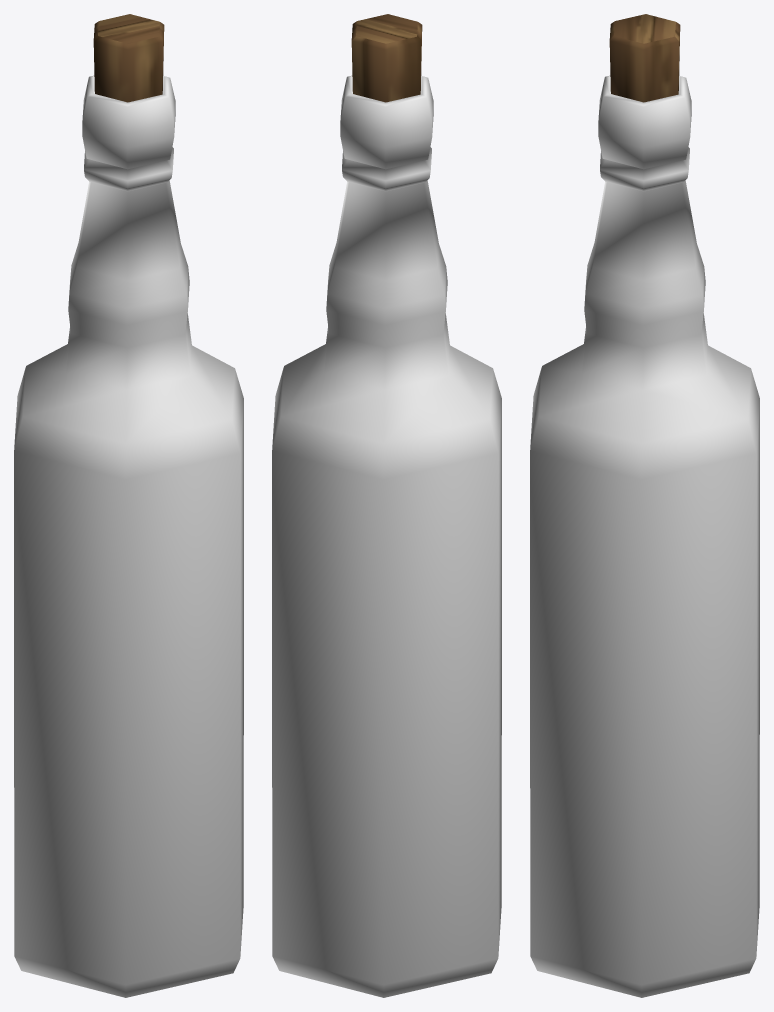
File: E_Moonshine Bottle.fbx
The picture shows the model from 3 angles, left to right: view 1: azimuth 30°, elevation 25°; view 2: azimuth 150°, elevation 25°; view 3: azimuth 270°, elevation 25°; orthographic projection.
Parts seen in each view (by area): view 1: GlassBottle, OakPlug; view 2: GlassBottle, OakPlug; view 3: GlassBottle, OakPlug.
Boxes of the visible parts, x1,y1,x2,y2 form: GlassBottle: (14, 75, 243, 997); OakPlug: (93, 14, 164, 102); GlassBottle: (272, 75, 501, 997); OakPlug: (351, 14, 422, 102); GlassBottle: (530, 75, 759, 997); OakPlug: (609, 14, 680, 102).
Bounding box in the file's own units: 8.08 × 31.56 × 7.1.
